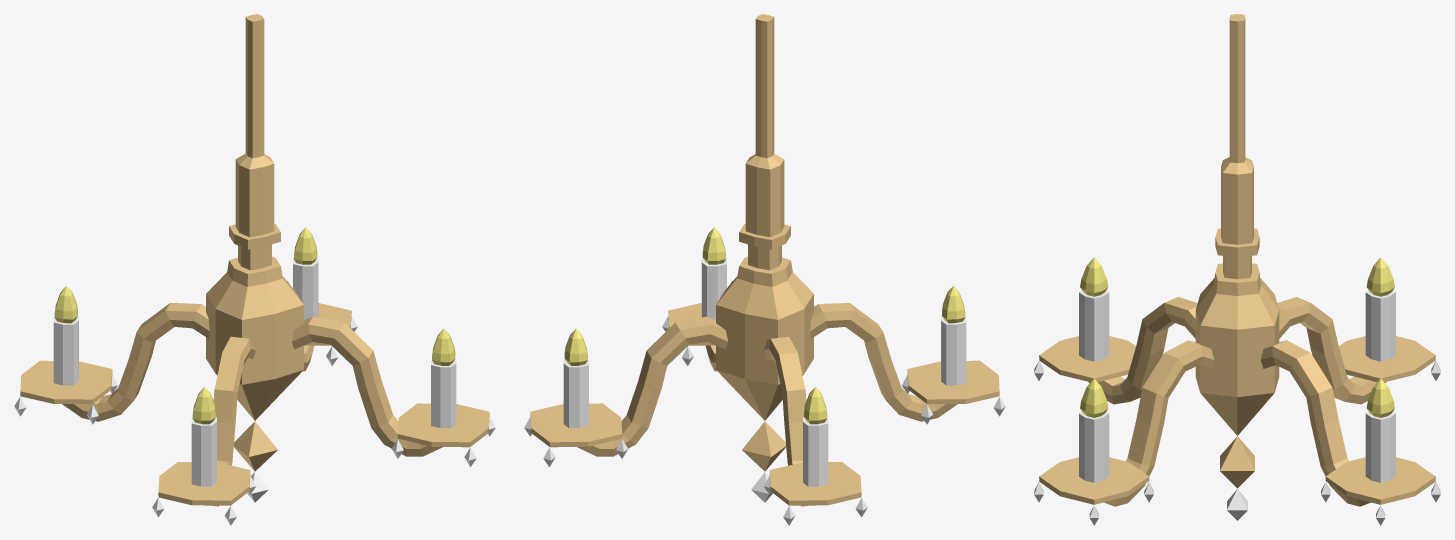
The model's file is Chandelier_01.gltf.
3 renders of one model, left to right at view 1: azimuth 30°, elevation 25°; view 2: azimuth 150°, elevation 25°; view 3: azimuth 270°, elevation 25°, orthographic. The views are drawn at different scales.
Visible parts, largest first — view 1: node-0; view 2: node-0; view 3: node-0.
Part boxes in pixels (x1,y1,x2,y2): node-0: [14, 14, 495, 525]; node-0: [524, 14, 1005, 525]; node-0: [1034, 14, 1440, 525].
Bounding box in the file's own units: 7.3 × 9.97 × 7.3.
